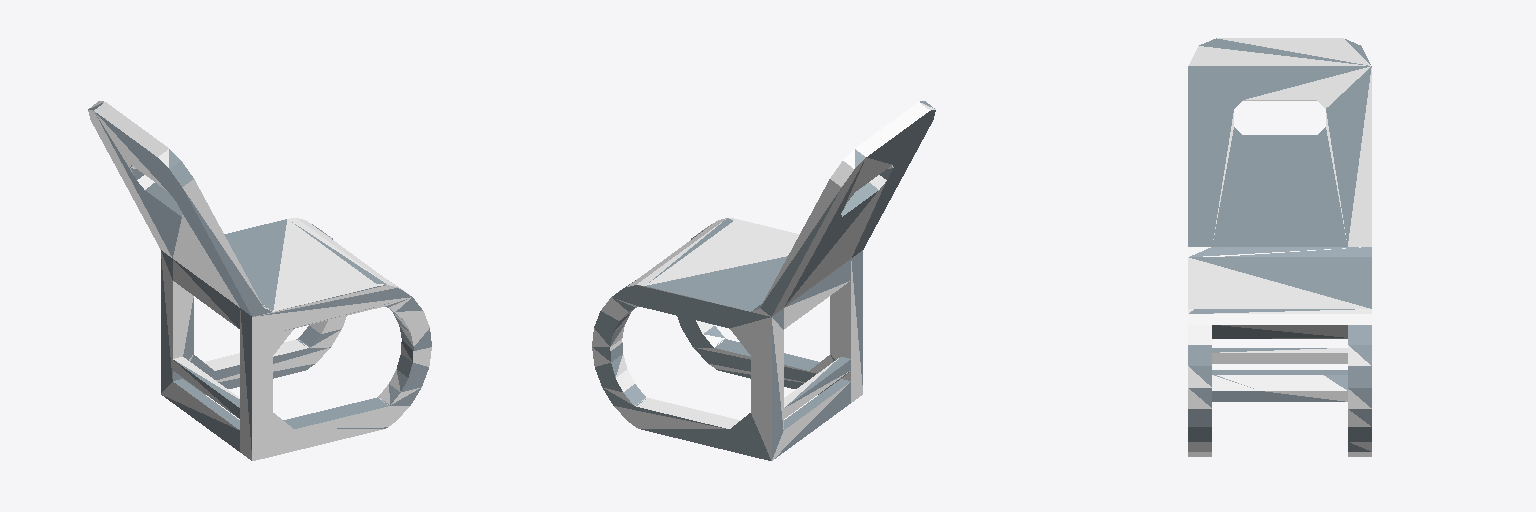
Rendered from chair_packed.obj.
The picture shows the model from 3 angles: view 1: azimuth 30°, elevation 25°; view 2: azimuth 150°, elevation 25°; view 3: azimuth 270°, elevation 25°; orthographic projection.
Parts seen in each view (by area): view 1: Mesh_0; view 2: Mesh_0; view 3: Mesh_0.
Part boxes in pixels (x1,y1,x2,y2): Mesh_0: (88, 101, 431, 460); Mesh_0: (592, 101, 935, 460); Mesh_0: (1188, 38, 1371, 456).
Bounding box in the file's own units: 0.9998 × 1.17 × 0.61.